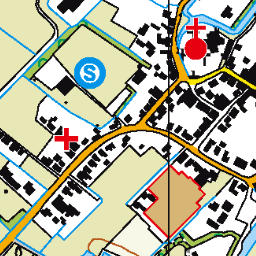church: (179, 15, 212, 63)
